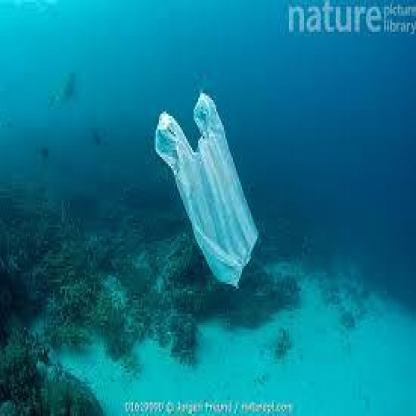pbag: (148, 86, 266, 296)
